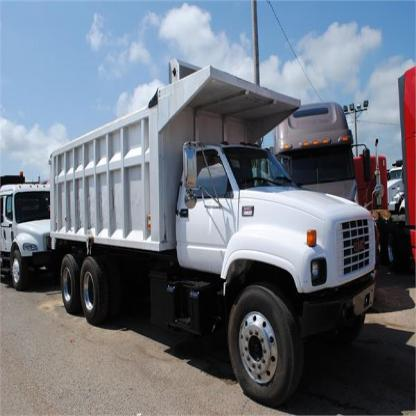dump_truck: (47, 58, 377, 409)
